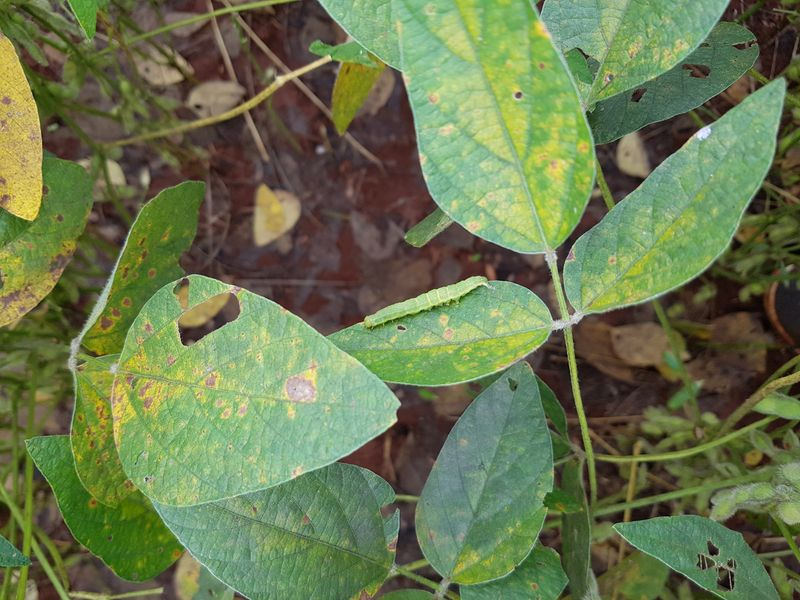Anticarsia_gemmatalis: (355, 267, 498, 342)
